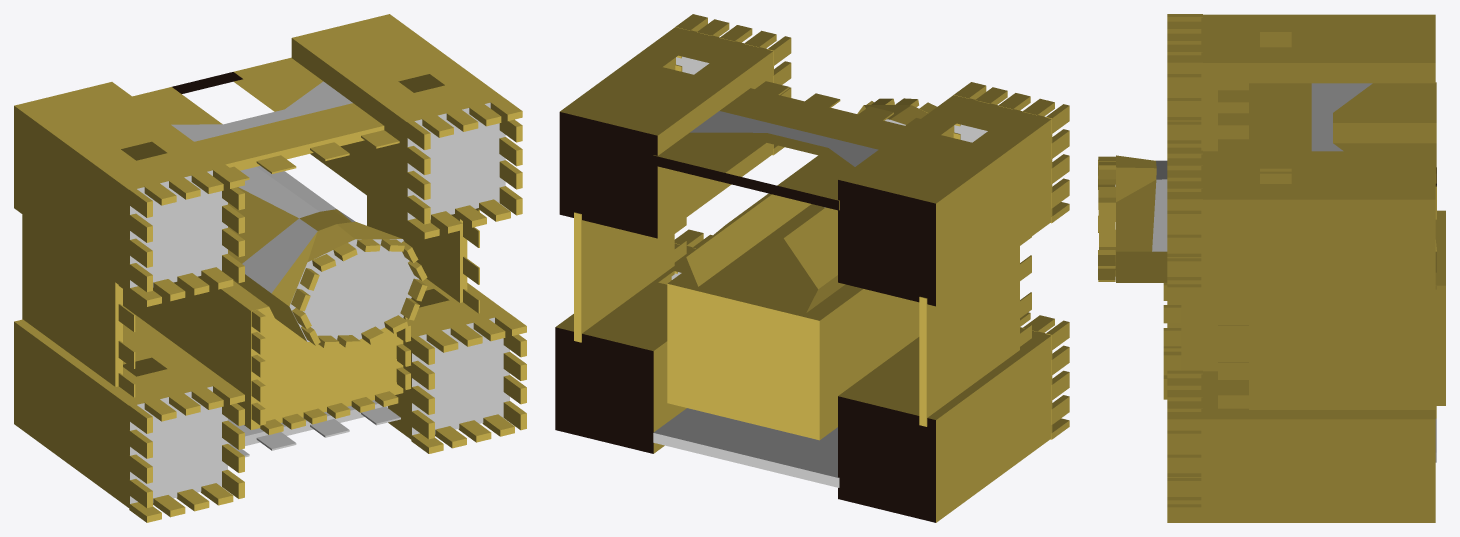
File: castle.obj
The picture shows the model from 3 angles, left to right: view 1: azimuth 30°, elevation 25°; view 2: azimuth 150°, elevation 25°; view 3: azimuth 270°, elevation 25°; orthographic projection.
Visible parts, largest first — view 1: Cube, Cube.002_Cube.018, Cube.001_Cube.017, Cube.008_Cube.029, Cube.009_Cube.030, Cube.003_Cube.019, Cube.006_Cube.023, Cube.005_Cube.027, Cube.007_Cube.028, Cube.004_Cube.026; view 2: Cube, Cube.009_Cube.030, Cube.001_Cube.017, Cube.002_Cube.018, Cube.003_Cube.019, Cube.006_Cube.023, Cube.005_Cube.027, Cube.008_Cube.029, Cube.007_Cube.028, Cube.004_Cube.026; view 3: Cube.001_Cube.017, Cube.003_Cube.019, Cube, Cube.007_Cube.028, Cube.006_Cube.023, Cube.008_Cube.029, Cube.009_Cube.030.
Boxes of the visible parts, left/top/right/bottom form: Cube: left=14, top=82, right=244, bottom=306; Cube.002_Cube.018: left=14, top=306, right=244, bottom=522; Cube.001_Cube.017: left=291, top=14, right=522, bottom=239; Cube.008_Cube.029: left=222, top=166, right=418, bottom=341; Cube.009_Cube.030: left=123, top=276, right=403, bottom=429; Cube.003_Cube.019: left=388, top=278, right=526, bottom=453; Cube.006_Cube.023: left=132, top=57, right=399, bottom=180; Cube.005_Cube.027: left=22, top=214, right=135, bottom=397; Cube.007_Cube.028: left=367, top=196, right=479, bottom=313; Cube.004_Cube.026: left=228, top=400, right=400, bottom=457; Cube: left=838, top=82, right=1069, bottom=306; Cube.009_Cube.030: left=667, top=204, right=919, bottom=440; Cube.001_Cube.017: left=559, top=14, right=791, bottom=238; Cube.002_Cube.018: left=838, top=312, right=1069, bottom=522; Cube.003_Cube.019: left=555, top=229, right=712, bottom=453; Cube.006_Cube.023: left=653, top=81, right=920, bottom=210; Cube.005_Cube.027: left=919, top=236, right=1031, bottom=426; Cube.008_Cube.029: left=686, top=105, right=928, bottom=312; Cube.007_Cube.028: left=574, top=212, right=686, bottom=342; Cube.004_Cube.026: left=653, top=408, right=839, bottom=487; Cube.001_Cube.017: left=1167, top=150, right=1435, bottom=302; Cube.003_Cube.019: left=1167, top=370, right=1435, bottom=522; Cube: left=1167, top=14, right=1435, bottom=151; Cube.007_Cube.028: left=1218, top=286, right=1436, bottom=418; Cube.006_Cube.023: left=1218, top=82, right=1436, bottom=183; Cube.008_Cube.029: left=1116, top=155, right=1436, bottom=282; Cube.009_Cube.030: left=1181, top=210, right=1445, bottom=405.
Size of the model in its own units: 1.22 by 0.9827 by 0.9579.
